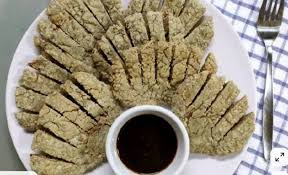Pempek kulit: (29, 68, 124, 175), (176, 66, 254, 161), (103, 42, 198, 112), (32, 2, 100, 72)
